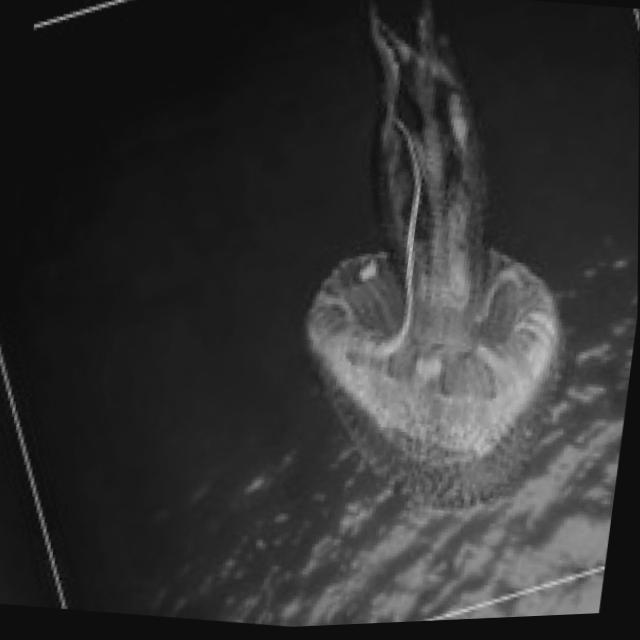Human: (274, 0, 612, 536)
